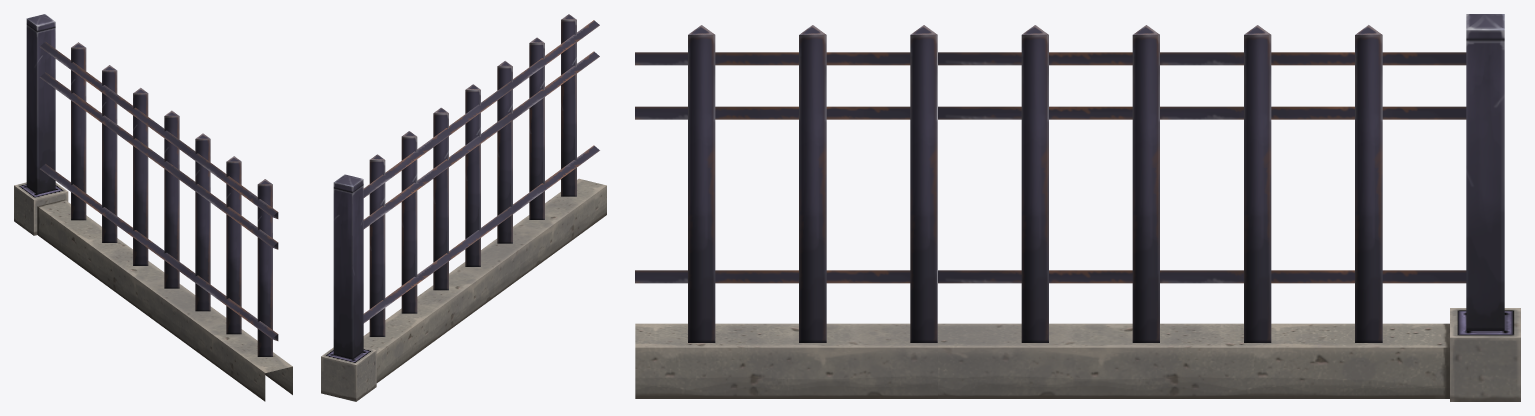
The model's file is fence_iron_3m.fbx.
3 renders of one model, left to right at view 1: azimuth 30°, elevation 25°; view 2: azimuth 150°, elevation 25°; view 3: azimuth 270°, elevation 25°, orthographic. The views are drawn at different scales.
Parts seen in each view (by area): view 1: fence_iron_3m; view 2: fence_iron_3m; view 3: fence_iron_3m.
Part boxes in pixels (left/top/right/bottom): fence_iron_3m: left=14, top=14, right=292, bottom=401; fence_iron_3m: left=321, top=14, right=606, bottom=401; fence_iron_3m: left=635, top=14, right=1520, bottom=401.
Size of the model in its own units: 25 by 145 by 313.
